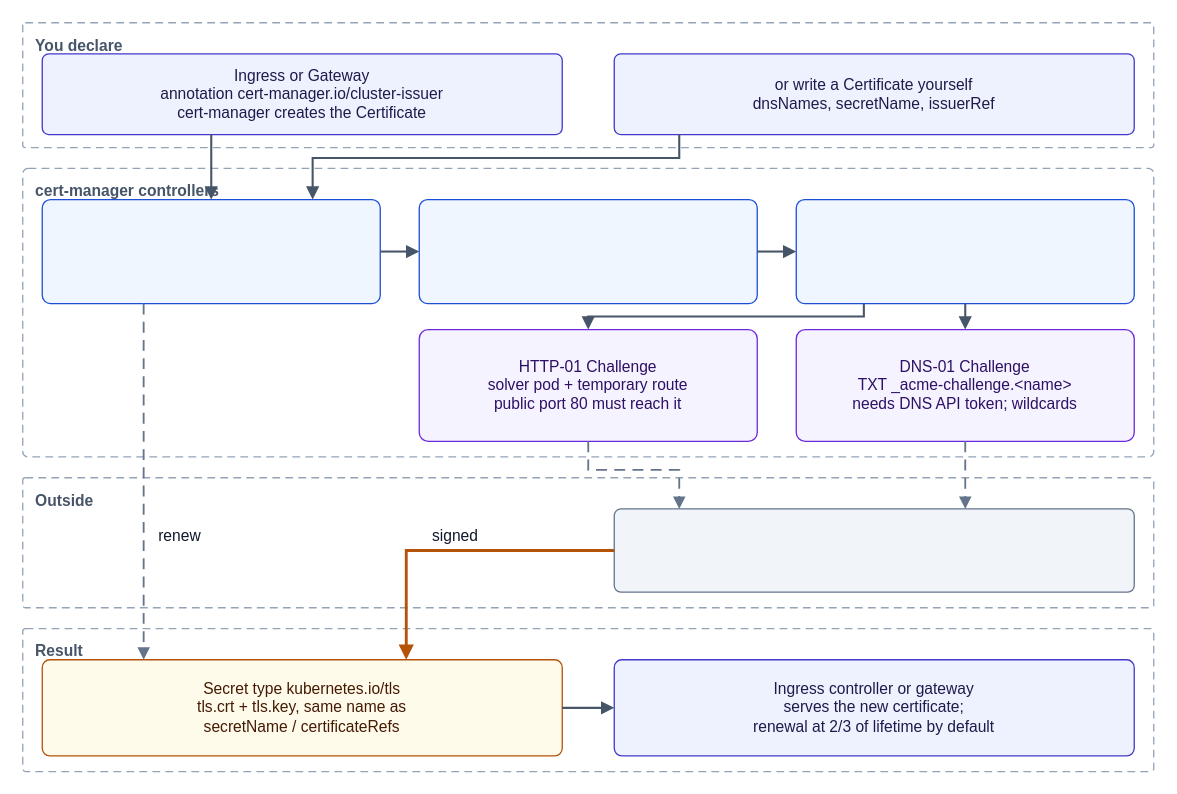
This 1177x794 diagram has some shape labels left out. The centre of each missing label's shape, as x and y in pixels:
"Certificate desired: names, Secret, duration, renewBefore" goes at point 210,251.
"CertificateRequest a CSR signed by the new private key" goes at point 587,251.
"Let's Encrypt (ACME) validates the challenge, signs the certificate" goes at point 873,550.
"Order (ACME) one per request lists the challenges" goes at point 964,251.
